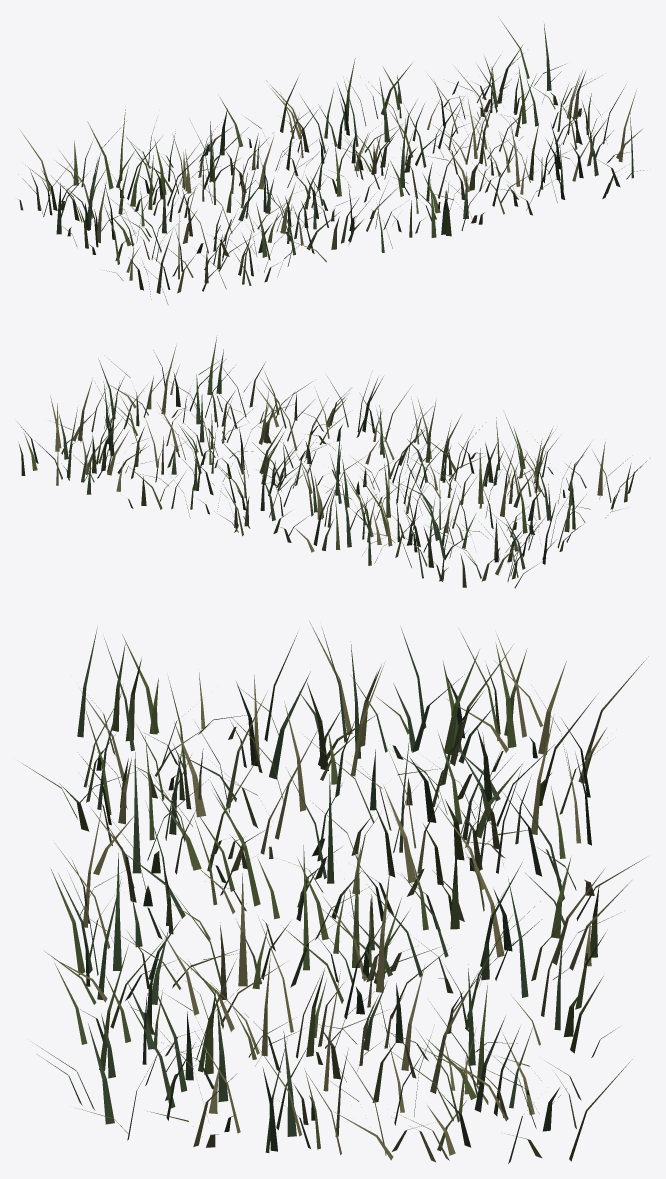
Rendered from verge-grass-2m.glb.
The picture shows the model from 3 angles, top to bottom: view 1: azimuth 30°, elevation 25°; view 2: azimuth 150°, elevation 25°; view 3: azimuth 270°, elevation 25°; orthographic projection. The views are drawn at different scales.
Parts seen in each view (by area): view 1: Bent grass blades; view 2: Bent grass blades; view 3: Bent grass blades.
Boxes of the visible parts, x1,y1,x2,y2 form: Bent grass blades: (18, 18, 643, 304); Bent grass blades: (18, 335, 646, 588); Bent grass blades: (22, 621, 648, 1163).
Size of the model in its own units: 2.63 by 0.2791 by 1.48.
